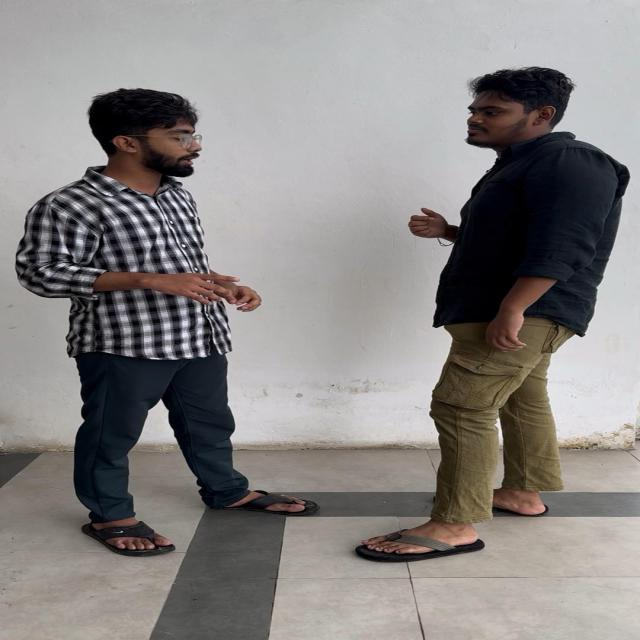non-fight: (17, 53, 617, 577)
